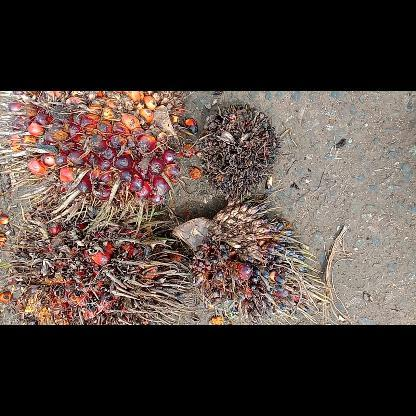TBS abnormal: (168, 202, 336, 324), (195, 100, 282, 198)
TBS masak: (1, 92, 181, 212)
Terlalu masak: (0, 202, 192, 324)
